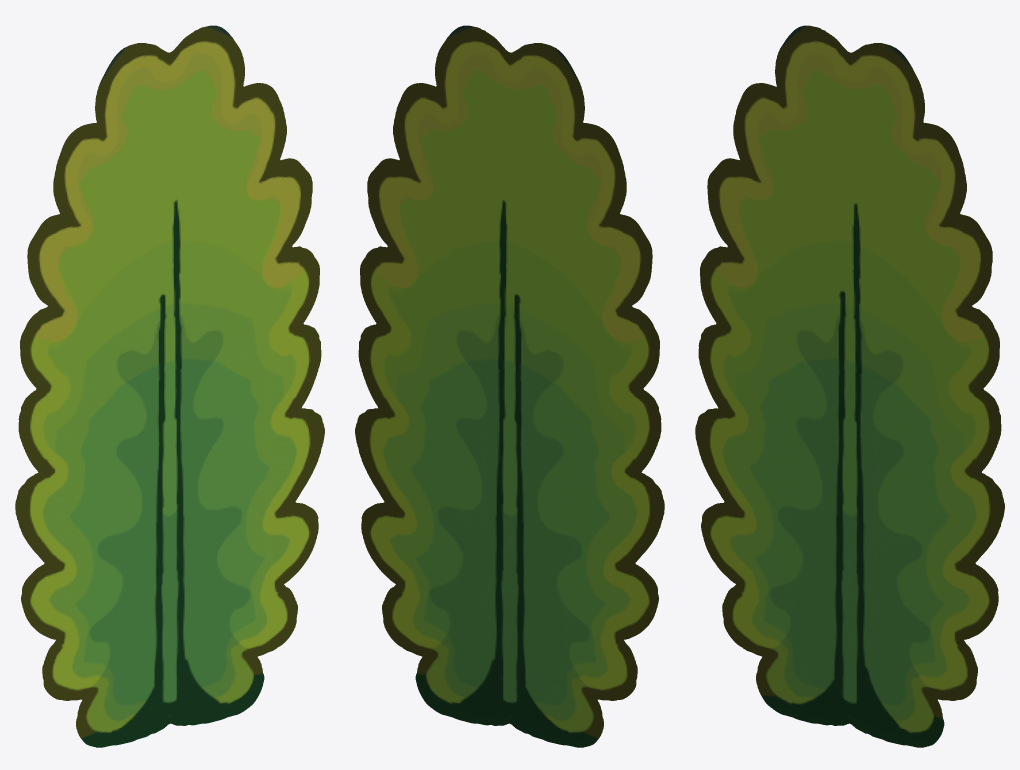
Rendered from HojaA.fbx.
3 views of the same model, side by side, from view 1: azimuth 30°, elevation 25°; view 2: azimuth 150°, elevation 25°; view 3: azimuth 330°, elevation 25° (orthographic).
Parts seen in each view (by area): view 1: HojaA; view 2: HojaA; view 3: HojaA.
Boxes of the visible parts, bbox=[...] form: HojaA: bbox=[15, 25, 324, 747]; HojaA: bbox=[355, 25, 664, 747]; HojaA: bbox=[695, 25, 1004, 747].
Bounding box in the file's own units: 0.6252 × 1.35 × 7.05e-07.
